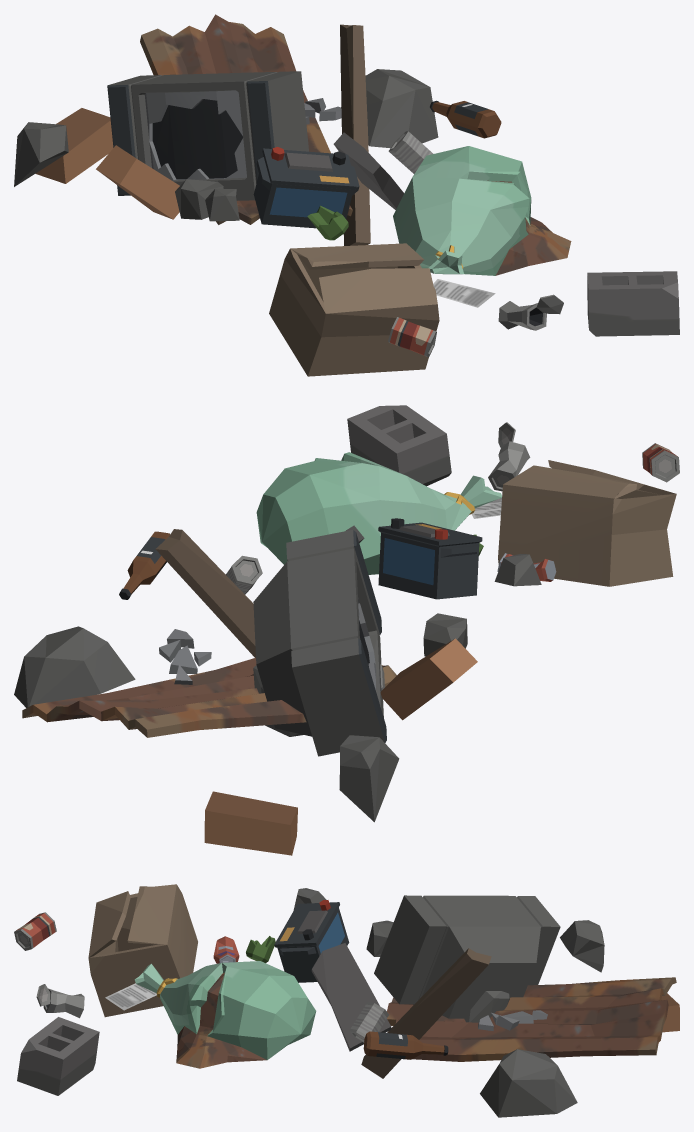
The model's file is SM_Prop_TrashSkip_02.obj.
3 views of the same model, one above another, from view 1: azimuth 30°, elevation 25°; view 2: azimuth 150°, elevation 25°; view 3: azimuth 270°, elevation 25° (orthographic). The views are drawn at different scales.
Parts seen in each view (by area): view 1: SM_Prop_TrashSkip_02_0, SM_Prop_TrashSkip_02_1; view 2: SM_Prop_TrashSkip_02_0, SM_Prop_TrashSkip_02_1; view 3: SM_Prop_TrashSkip_02_0, SM_Prop_TrashSkip_02_1.
Part boxes in pixels (left/top/right/bottom): SM_Prop_TrashSkip_02_0: left=14, top=14, right=679, bottom=376; SM_Prop_TrashSkip_02_1: left=35, top=108, right=179, bottom=219; SM_Prop_TrashSkip_02_0: left=14, top=405, right=679, bottom=822; SM_Prop_TrashSkip_02_1: left=204, top=638, right=477, bottom=855; SM_Prop_TrashSkip_02_0: left=14, top=884, right=676, bottom=1117; SM_Prop_TrashSkip_02_1: left=661, top=993, right=679, bottom=1032.
Size of the model in its own units: 2.05 by 0.9554 by 3.81.
Materials: 2 (2 with a texture image).
